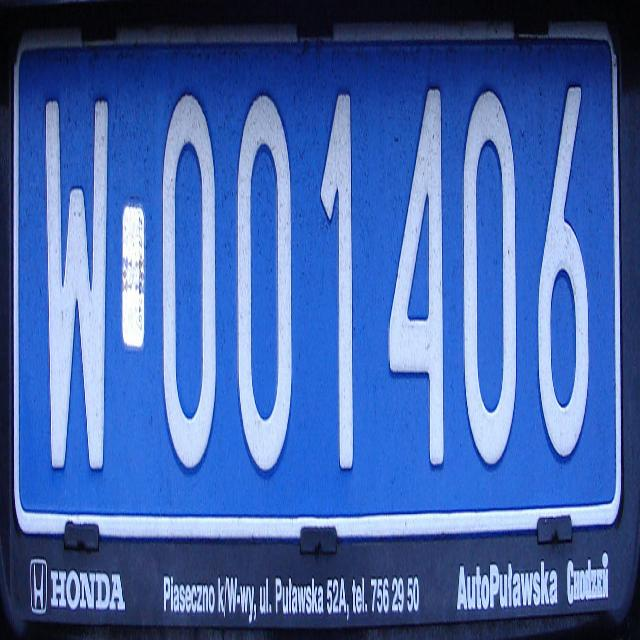pl_license_plate: (14, 45, 618, 530)
